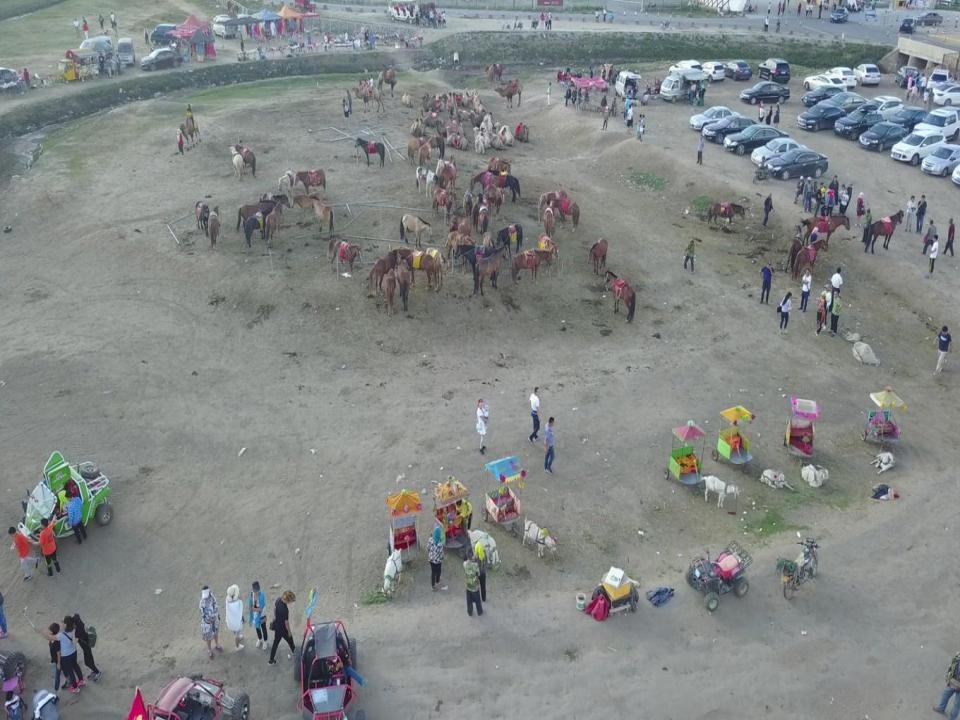car: (722, 124, 789, 156), (890, 130, 947, 166), (765, 148, 828, 180), (912, 105, 960, 144), (701, 115, 764, 144), (750, 138, 809, 168), (832, 109, 884, 141), (858, 121, 909, 152), (796, 102, 846, 132), (689, 105, 743, 132), (817, 91, 870, 118), (886, 106, 932, 136), (853, 95, 904, 122), (920, 143, 960, 177), (740, 80, 790, 105), (802, 73, 848, 96), (140, 47, 181, 72), (802, 85, 848, 107), (758, 56, 792, 84), (668, 59, 704, 84), (149, 24, 190, 45), (929, 82, 960, 107), (824, 66, 857, 89), (926, 69, 955, 95), (720, 60, 752, 82), (852, 63, 881, 86), (695, 61, 725, 83), (894, 66, 922, 88), (913, 12, 943, 26), (813, 181, 824, 218), (802, 176, 813, 213), (899, 18, 917, 34), (830, 7, 849, 22), (212, 14, 233, 27)
truck: (659, 66, 704, 102)
van: (78, 36, 114, 66), (614, 70, 642, 100), (116, 37, 135, 67), (213, 17, 235, 39)
